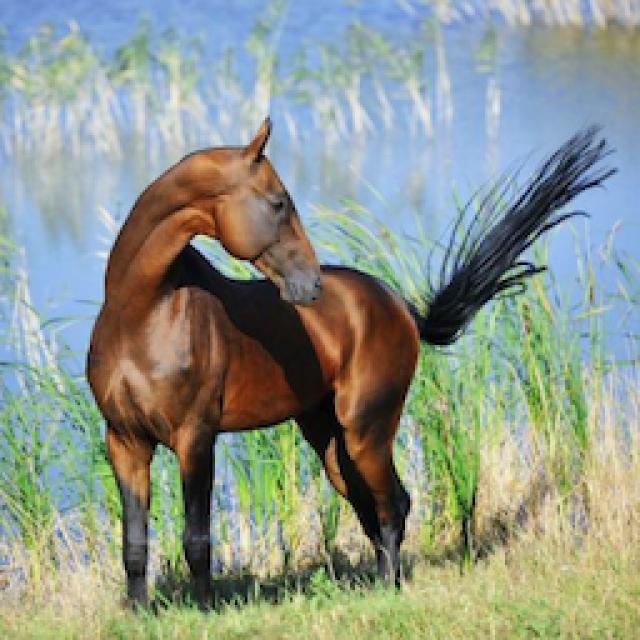Horse: (78, 110, 620, 615)
